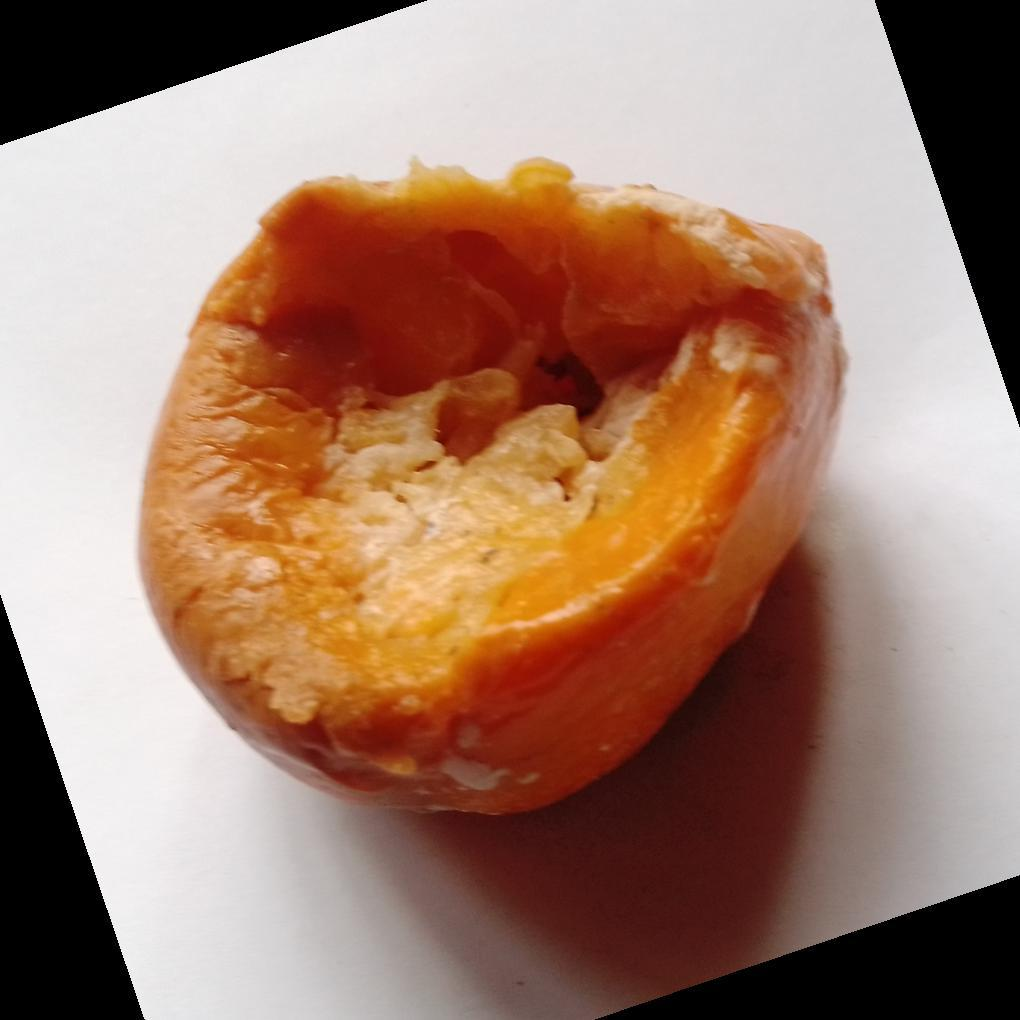FreshOrange: (135, 159, 850, 821)
